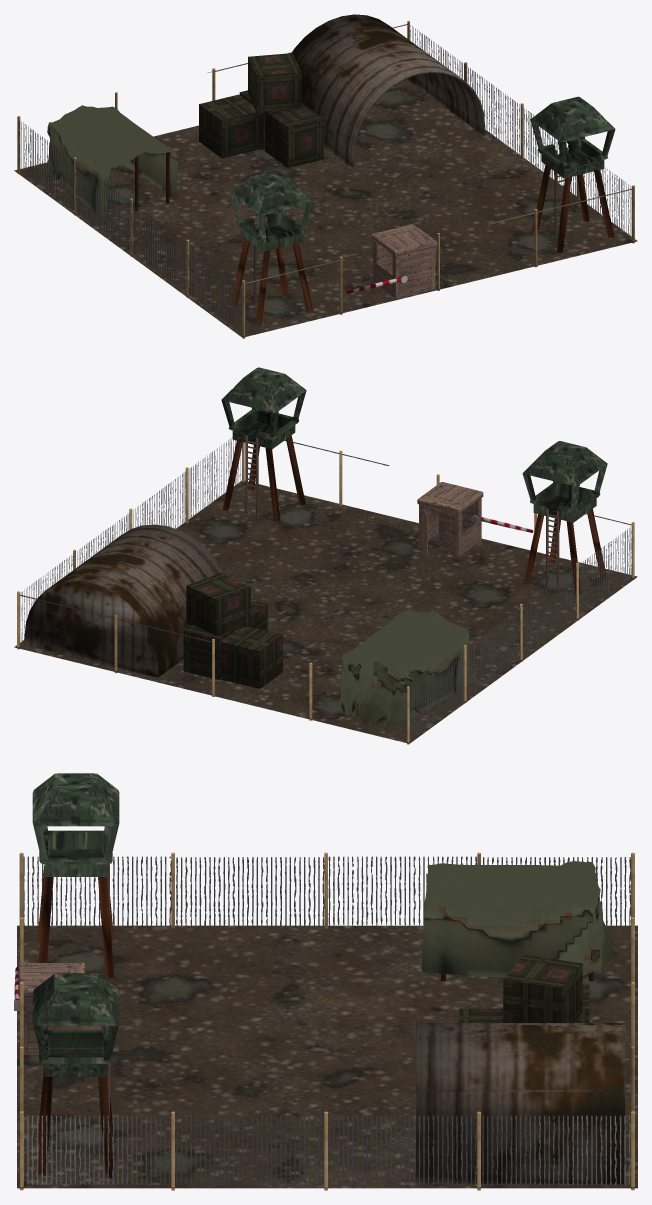
The model's file is obj_milbase.glb.
3 views of the same model, one above another, from view 1: azimuth 30°, elevation 25°; view 2: azimuth 150°, elevation 25°; view 3: azimuth 270°, elevation 25° (orthographic). The views are drawn at different scales.
Parts seen in each view (by area): view 1: body|Ground_gameasset_Mat_1, body|Fence_gameasset_Mat_1, body|Hangar_gameasset_Mat_1, body|Tent_gameasset_Mat_1, body|Guardtower1_gameasset_Mat_1, body|Guardtower2_gameasset_Mat_1, body|Entrance_gameasset_Mat_1, body|Crate2_gameasset_Mat_1, body|Crate3_gameasset_Mat_1, body|Crate4_gameasset_Mat_1; view 2: body|Ground_gameasset_Mat_1, body|Hangar_gameasset_Mat_1, body|Fence_gameasset_Mat_1, body|Tent_gameasset_Mat_1, body|Guardtower2_gameasset_Mat_1, body|Guardtower1_gameasset_Mat_1, body|Entrance_gameasset_Mat_1, body|Crate4_gameasset_Mat_1, body|Crate2_gameasset_Mat_1, body|Crate1_gameasset_Mat_1, body|Ladder2_gameasset_Mat_1, body|Ladder1_gameasset_Mat_1; view 3: body|Ground_gameasset_Mat_1, body|Fence_gameasset_Mat_1, body|Hangar_gameasset_Mat_1, body|Tent_gameasset_Mat_1, body|Guardtower1_gameasset_Mat_1, body|Guardtower2_gameasset_Mat_1, body|Crate4_gameasset_Mat_1, body|Entrance_gameasset_Mat_1, body|Crate3_gameasset_Mat_1.
Part boxes in pixels (x1=…): body|Ground_gameasset_Mat_1: x1=14, y1=80, x2=637, y2=337; body|Fence_gameasset_Mat_1: x1=17, y1=20, x2=634, y2=338; body|Hangar_gameasset_Mat_1: x1=291, y1=14, x2=485, y2=167; body|Tent_gameasset_Mat_1: x1=44, y1=105, x2=177, y2=220; body|Guardtower1_gameasset_Mat_1: x1=229, y1=170, x2=314, y2=326; body|Guardtower2_gameasset_Mat_1: x1=530, y1=96, x2=615, y2=252; body|Entrance_gameasset_Mat_1: x1=371, y1=224, x2=437, y2=298; body|Crate2_gameasset_Mat_1: x1=199, y1=94, x2=261, y2=158; body|Crate3_gameasset_Mat_1: x1=265, y1=103, x2=323, y2=167; body|Crate4_gameasset_Mat_1: x1=248, y1=53, x2=301, y2=113; body|Ground_gameasset_Mat_1: x1=14, y1=480, x2=637, y2=743; body|Hangar_gameasset_Mat_1: x1=24, y1=524, x2=225, y2=677; body|Fence_gameasset_Mat_1: x1=17, y1=437, x2=634, y2=744; body|Tent_gameasset_Mat_1: x1=338, y1=610, x2=468, y2=730; body|Guardtower2_gameasset_Mat_1: x1=221, y1=367, x2=306, y2=521; body|Guardtower1_gameasset_Mat_1: x1=522, y1=441, x2=607, y2=594; body|Entrance_gameasset_Mat_1: x1=417, y1=482, x2=483, y2=556; body|Crate4_gameasset_Mat_1: x1=186, y1=573, x2=250, y2=635; body|Crate2_gameasset_Mat_1: x1=220, y1=626, x2=282, y2=688; body|Crate1_gameasset_Mat_1: x1=183, y1=624, x2=234, y2=679; body|Ladder2_gameasset_Mat_1: x1=546, y1=508, x2=559, y2=590; body|Ladder1_gameasset_Mat_1: x1=245, y1=435, x2=258, y2=516; body|Ground_gameasset_Mat_1: x1=17, y1=925, x2=637, y2=1188; body|Fence_gameasset_Mat_1: x1=19, y1=852, x2=634, y2=1190; body|Hangar_gameasset_Mat_1: x1=416, y1=1023, x2=625, y2=1184; body|Tent_gameasset_Mat_1: x1=421, y1=861, x2=617, y2=981; body|Guardtower1_gameasset_Mat_1: x1=32, y1=773, x2=119, y2=978; body|Guardtower2_gameasset_Mat_1: x1=32, y1=973, x2=119, y2=1178; body|Crate4_gameasset_Mat_1: x1=503, y1=955, x2=582, y2=1022; body|Entrance_gameasset_Mat_1: x1=18, y1=963, x2=85, y2=1054; body|Crate3_gameasset_Mat_1: x1=459, y1=1008, x2=503, y2=1022.
Bounding box in the file's own units: 29.92 × 10.24 × 30.06.
Materials: 15 (15 with a texture image).
